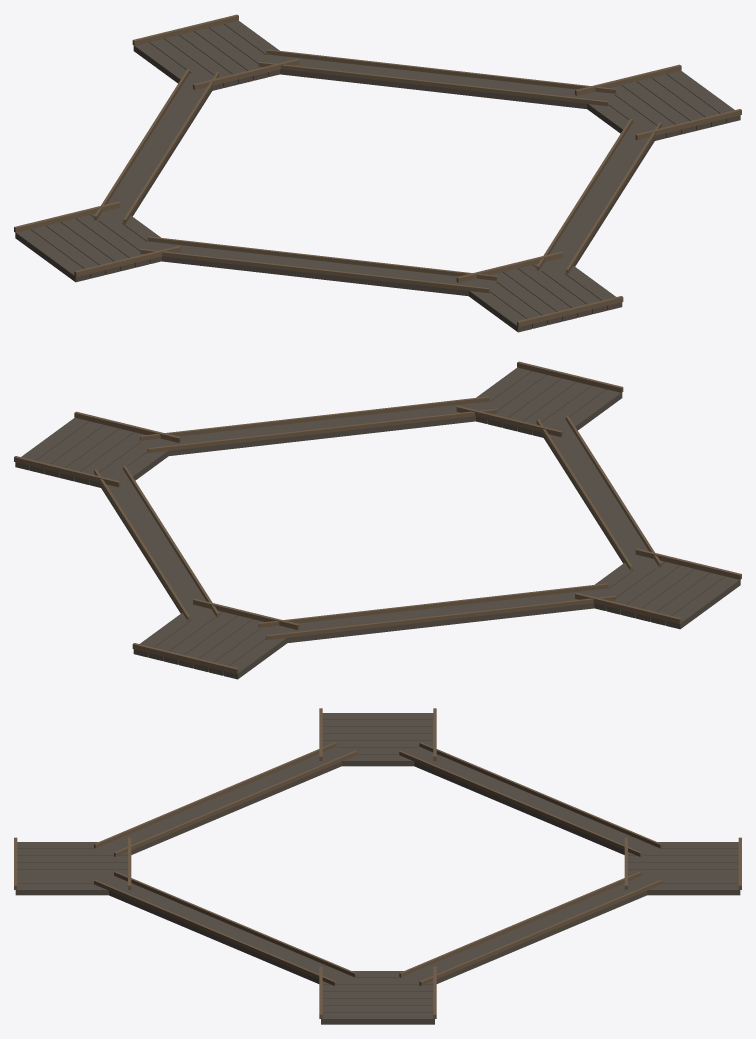
Rendered from 02_canopy_walks.glb.
3 views of the same model, one above another, from view 1: azimuth 30°, elevation 25°; view 2: azimuth 150°, elevation 25°; view 3: azimuth 270°, elevation 25° (orthographic). The views are drawn at different scales.
Visible parts, largest first — view 1: canopy_walk_wood, canopy_walk_bark; view 2: canopy_walk_wood, canopy_walk_bark; view 3: canopy_walk_wood, canopy_walk_bark.
Boxes of the visible parts, box(x1,y1,x2,y2) form: canopy_walk_wood: box(15, 20, 740, 332); canopy_walk_bark: box(14, 14, 741, 327); canopy_walk_wood: box(15, 367, 740, 679); canopy_walk_bark: box(14, 361, 741, 674); canopy_walk_wood: box(15, 713, 740, 1024); canopy_walk_bark: box(14, 708, 741, 1018).
Size of the model in its own units: 356 by 5.4 by 358.
